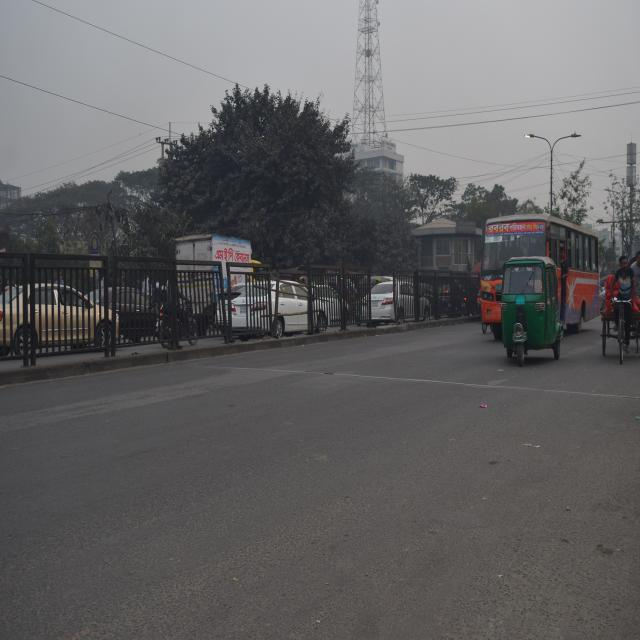bus: (478, 213, 605, 327)
car: (0, 274, 122, 363), (222, 268, 321, 347), (362, 276, 426, 328)
